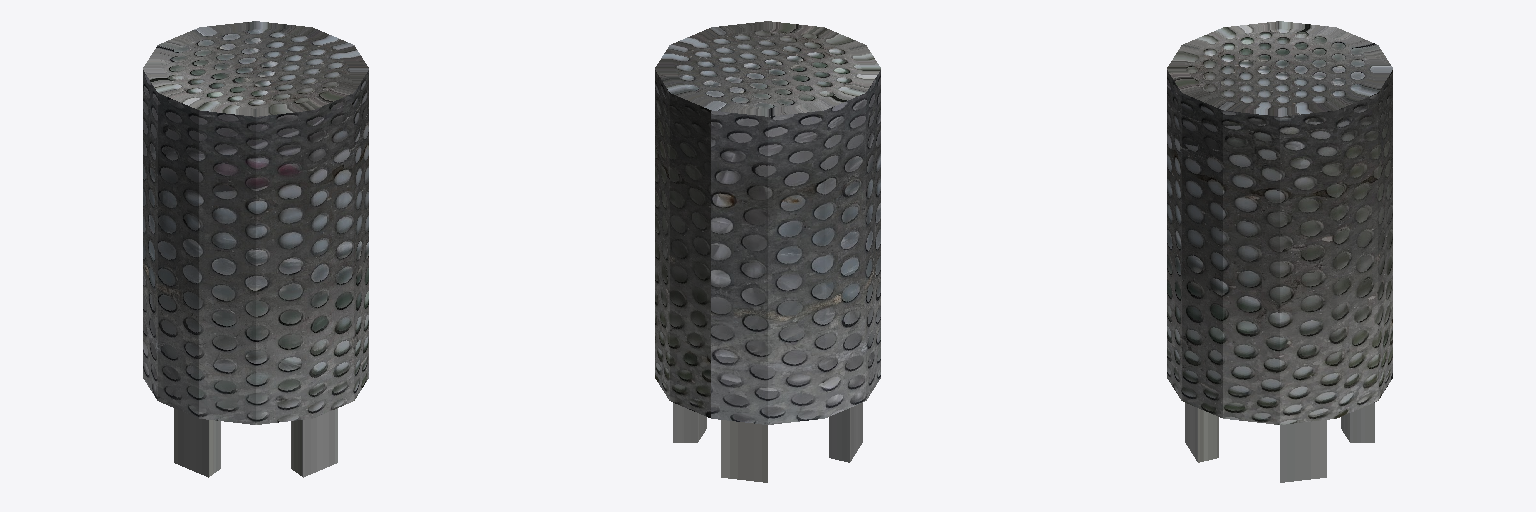
3 views of the same model, side by side, from view 1: azimuth 30°, elevation 25°; view 2: azimuth 150°, elevation 25°; view 3: azimuth 270°, elevation 25° (orthographic).
Parts seen in each view (by area): view 1: Cylinder.003; view 2: Cylinder.003; view 3: Cylinder.003.
Part boxes in pixels (bbox=[...]): Cylinder.003: bbox=[143, 21, 368, 477]; Cylinder.003: bbox=[655, 21, 880, 482]; Cylinder.003: bbox=[1167, 21, 1392, 482].
Bounding box in the file's own units: 2.4 × 4.37 × 2.4.
1 materials, 1 textured.